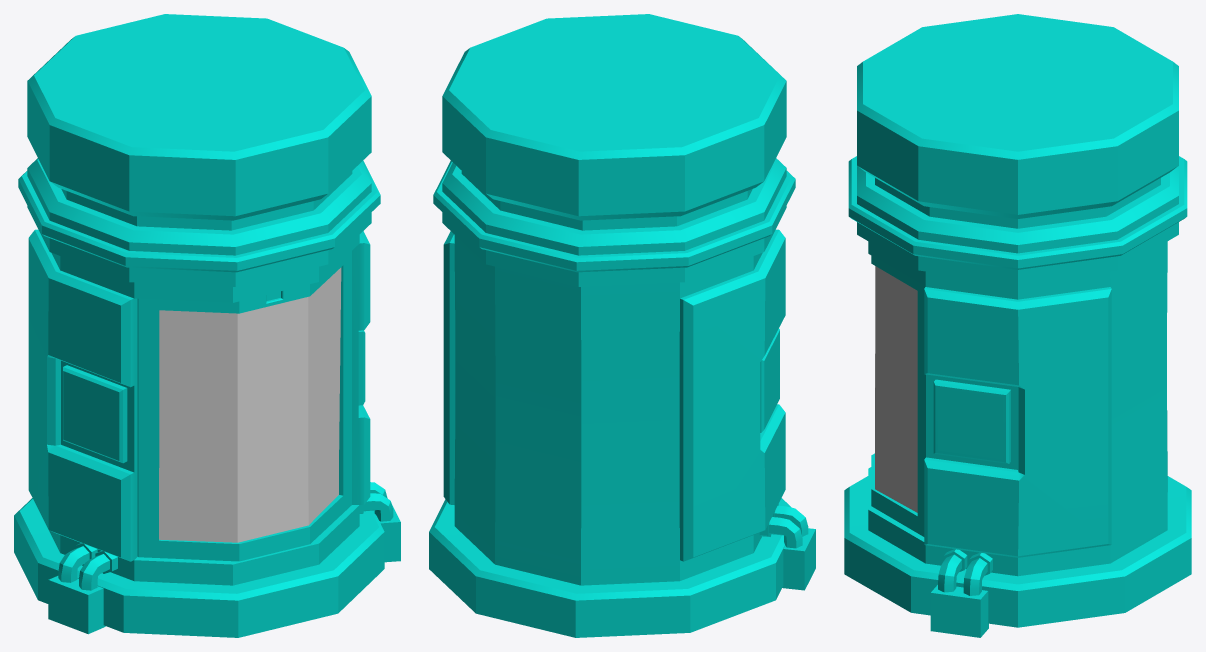
File: TubeC2Closed.fbx
The picture shows the model from 3 angles, left to right: view 1: azimuth 30°, elevation 25°; view 2: azimuth 150°, elevation 25°; view 3: azimuth 270°, elevation 25°; orthographic projection. The views are drawn at different scales.
Visible parts, largest first — view 1: pCylinder90; view 2: pCylinder90; view 3: pCylinder90.
Boxes of the visible parts, left/top/right/bottom form: pCylinder90: left=14, top=14, right=400, bottom=637; pCylinder90: left=429, top=14, right=815, bottom=637; pCylinder90: left=844, top=14, right=1191, bottom=637.
Size of the model in its own units: 319 by 431 by 287.
